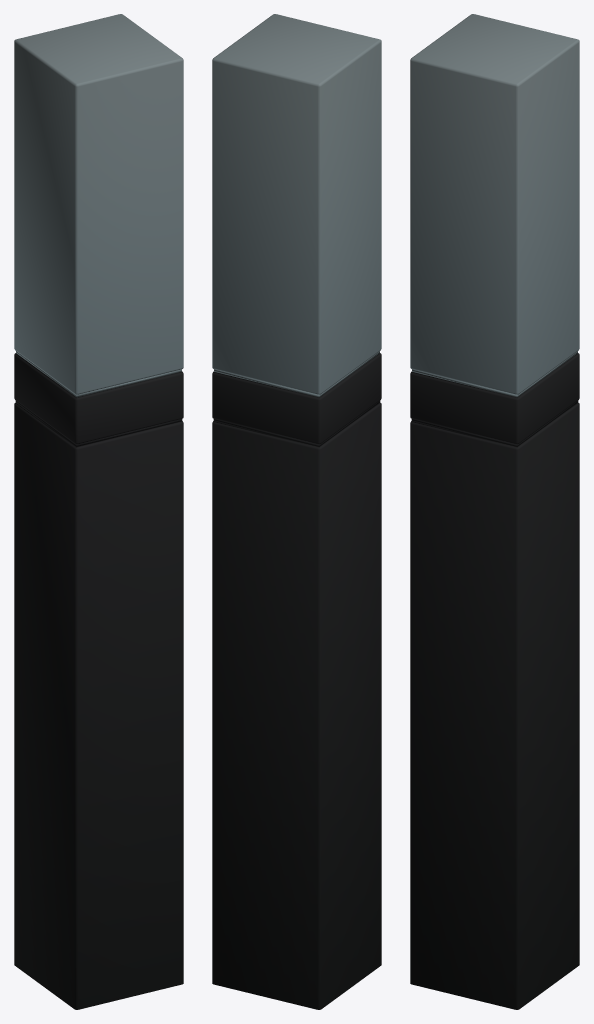
Rendered from LowerLamp.fbx.
3 renders of one model, left to right at view 1: azimuth 30°, elevation 25°; view 2: azimuth 150°, elevation 25°; view 3: azimuth 330°, elevation 25°, orthographic.
Visible parts, largest first — view 1: Cube.080; view 2: Cube.080; view 3: Cube.080.
Part boxes in pixels (x1,y1,x2,y2): Cube.080: [14, 14, 183, 1009]; Cube.080: [212, 14, 381, 1009]; Cube.080: [410, 14, 579, 1009].
Bounding box in the file's own units: 0.7218 × 0.7219 × 5.86.
